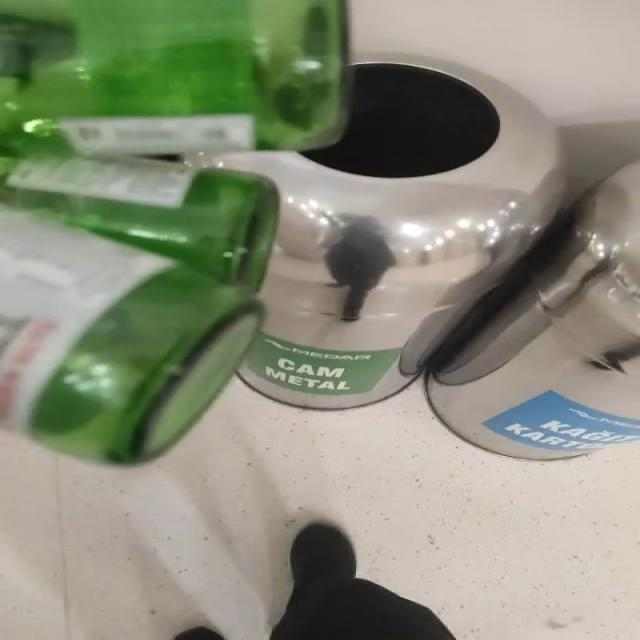glass: (1, 0, 345, 464)
